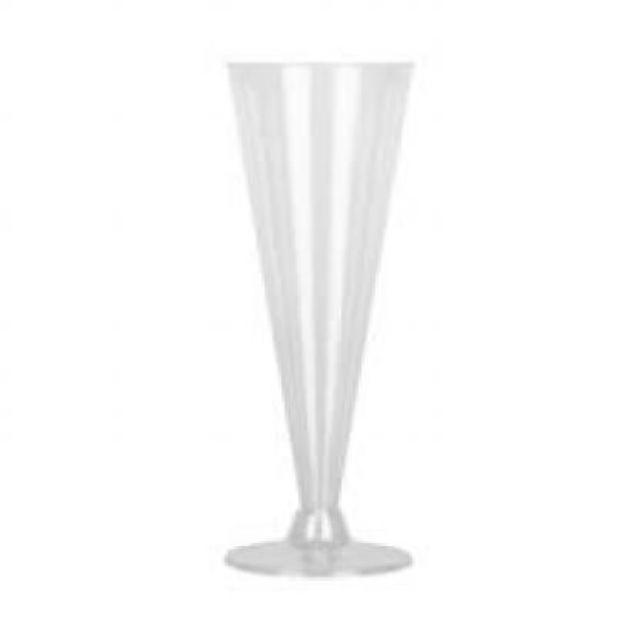kaca: (225, 57, 409, 572)
